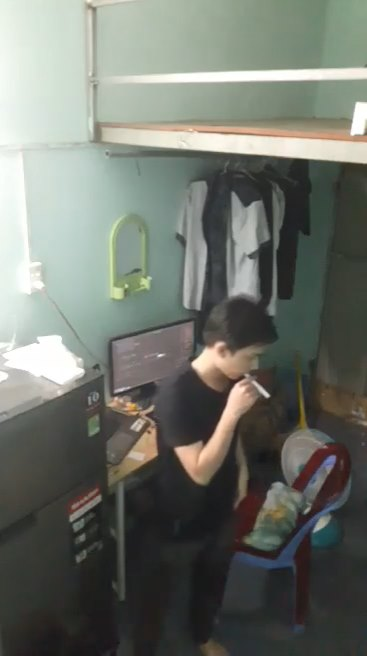cigarette: (243, 371, 275, 403)
person: (148, 277, 300, 653)
